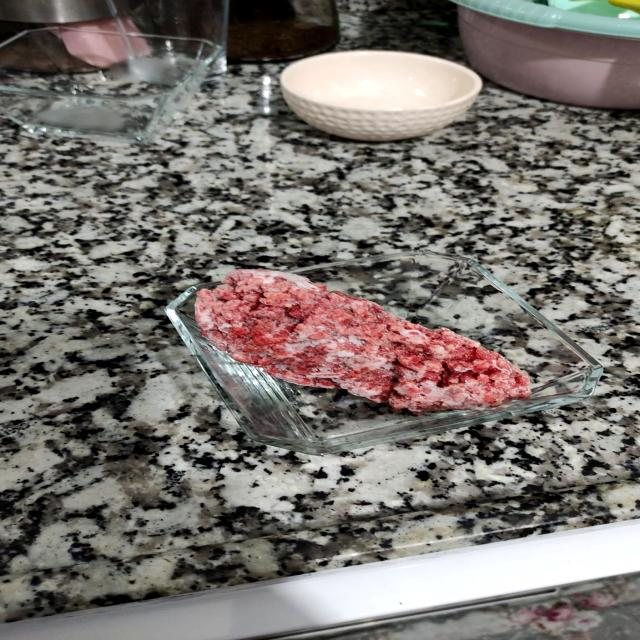ground meat: (159, 255, 553, 421)
